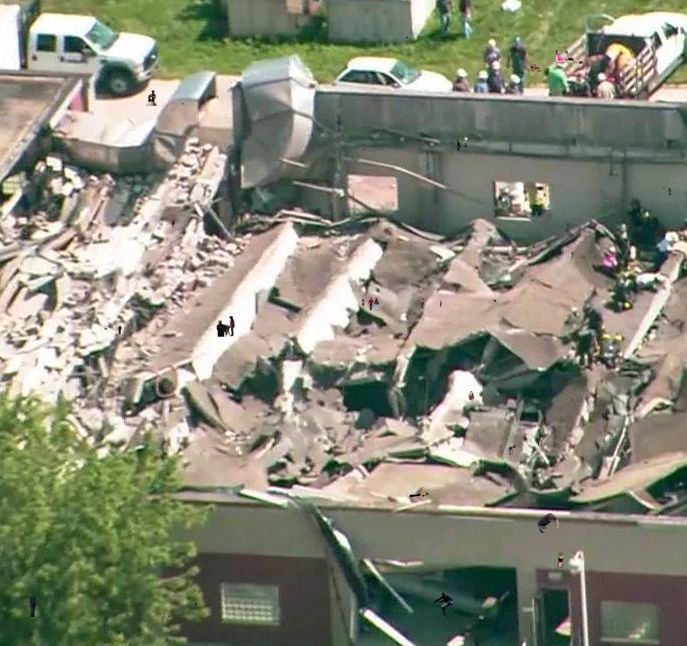Human: (556, 50, 584, 69), (434, 592, 453, 619), (522, 433, 548, 452), (212, 316, 235, 337), (537, 513, 559, 533), (99, 319, 122, 335), (361, 297, 379, 311), (420, 298, 442, 309), (28, 593, 37, 617), (144, 90, 157, 106), (456, 135, 468, 151), (554, 550, 564, 568), (408, 492, 429, 498), (528, 64, 541, 72), (161, 613, 170, 623), (508, 445, 516, 455), (468, 391, 475, 402), (170, 217, 177, 228), (663, 187, 672, 195), (167, 639, 176, 644), (532, 243, 535, 248), (363, 148, 366, 152), (472, 525, 475, 529), (182, 101, 185, 105), (547, 204, 550, 208), (492, 299, 496, 302), (405, 36, 408, 40), (195, 602, 197, 607)
